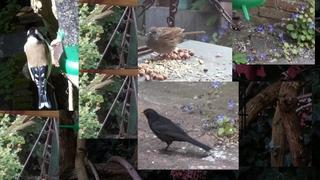blackbird: (139, 108, 212, 156)
dunnock: (146, 27, 206, 61)
goldfinch: (24, 27, 52, 110)
